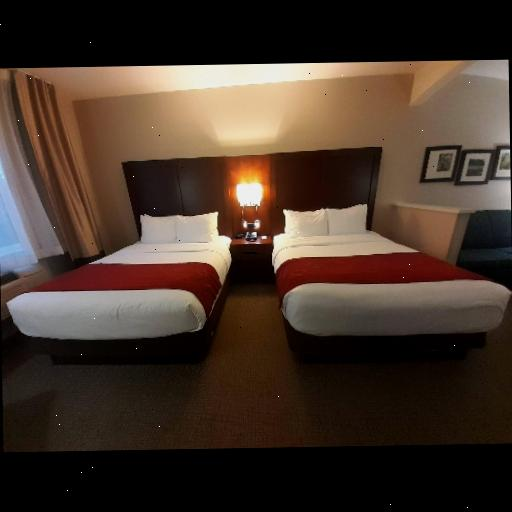clean_bed: (267, 147, 504, 365), (5, 160, 233, 369)
clean_floor: (3, 270, 512, 452)
organised_pillow: (284, 201, 370, 237), (139, 212, 219, 246)
